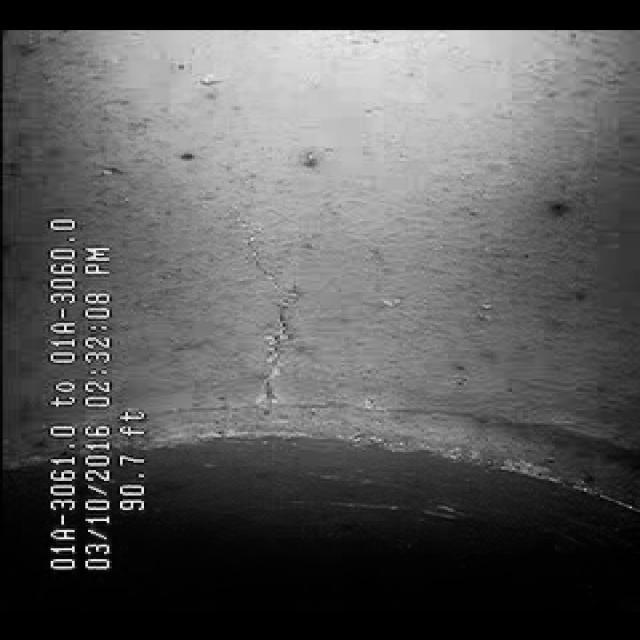Crack: (191, 200, 325, 408)
